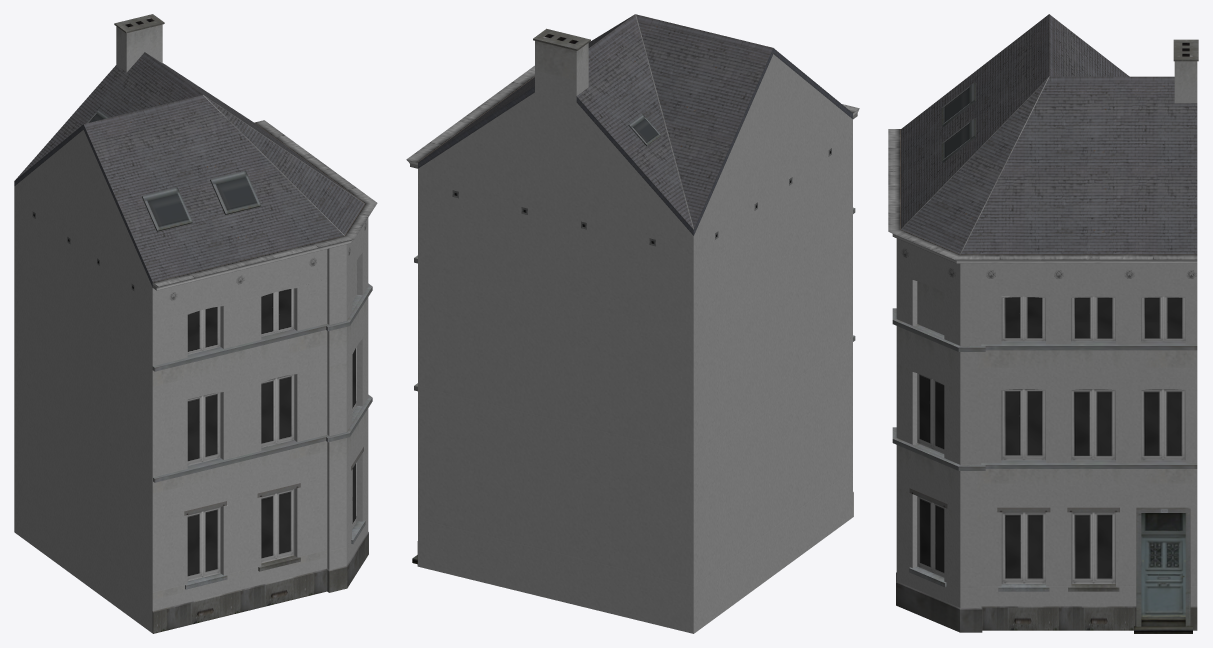
Rendered from nivelles_corner_house_2_belgium.glb.
The picture shows the model from 3 angles, left to right: view 1: azimuth 30°, elevation 25°; view 2: azimuth 150°, elevation 25°; view 3: azimuth 270°, elevation 25°; orthographic projection. The views are drawn at different scales.
Visible parts, largest first — view 1: corner 2; view 2: corner 2; view 3: corner 2.
Part boxes in pixels (left/top/right/bottom): corner 2: left=14, top=14, right=377, bottom=633; corner 2: left=406, top=14, right=859, bottom=633; corner 2: left=888, top=14, right=1198, bottom=633.
Size of the model in its own units: 7.3 by 13.5 by 7.33.
Materials: 1 (1 with a texture image).
